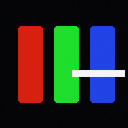3 line_h: (72, 70, 124, 76)
